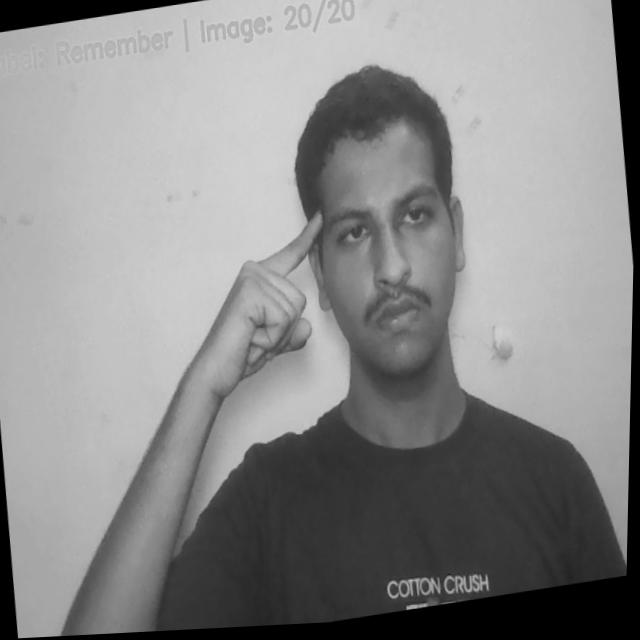Remember: (172, 206, 342, 404)
